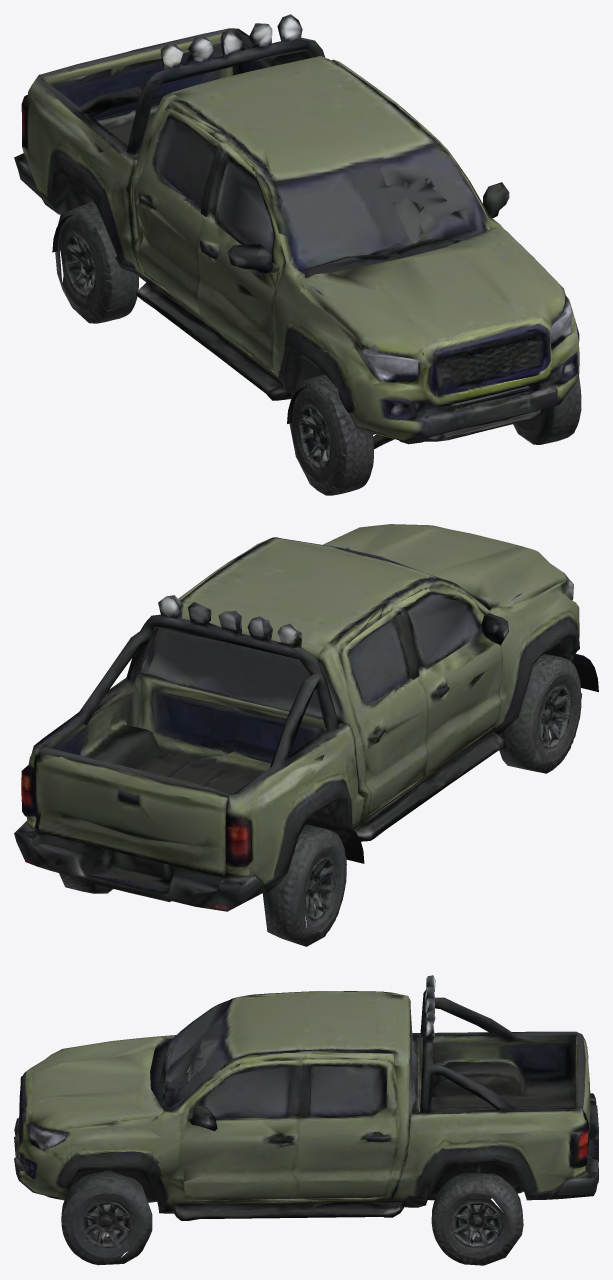
The model's file is car_pickup_lod.glb.
The picture shows the model from 3 angles, top to bottom: view 1: azimuth 30°, elevation 25°; view 2: azimuth 150°, elevation 25°; view 3: azimuth 270°, elevation 25°; orthographic projection. The views are drawn at different scales.
Visible parts, largest first — view 1: body, wheel_FR, wheel_RR, wheel_FL; view 2: body, wheel_FR, wheel_RR, liner_RR, liner_FR; view 3: body, wheel_FL, wheel_RL.
Boxes of the visible parts, <box> form: body: <box>14,14,579,494</box>; wheel_FR: <box>292,389,374,495</box>; wheel_RR: <box>59,219,138,323</box>; wheel_FL: <box>515,375,581,444</box>; body: <box>14,524,579,946</box>; wheel_FR: <box>536,654,582,766</box>; wheel_RR: <box>303,831,346,937</box>; liner_RR: <box>307,818,364,863</box>; liner_FR: <box>552,648,598,692</box>; body: <box>14,975,598,1265</box>; wheel_FL: <box>61,1175,138,1264</box>; wheel_RL: <box>431,1176,504,1264</box>.
Bounding box in the file's own units: 2.33 × 2.28 × 5.45.
2 materials, 1 textured.
